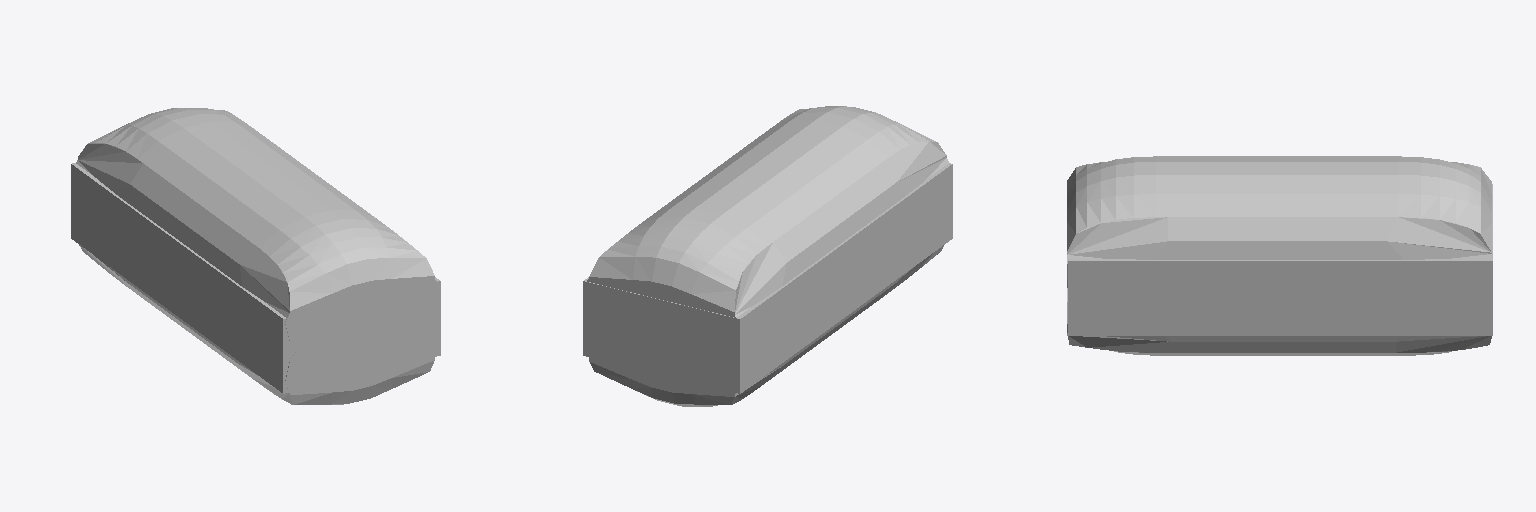
The model's file is Base Beats.obj.
3 renders of one model, left to right at view 1: azimuth 30°, elevation 25°; view 2: azimuth 150°, elevation 25°; view 3: azimuth 270°, elevation 25°, orthographic.
Visible parts, largest first — view 1: Box001; view 2: Box001; view 3: Box001.
Part boxes in pixels (x1,y1,x2,y2): Box001: (71,108,440,404); Box001: (583,106,952,406); Box001: (1067,156,1492,355).
Size of the model in its own units: 15.81 by 16.89 by 37.04.